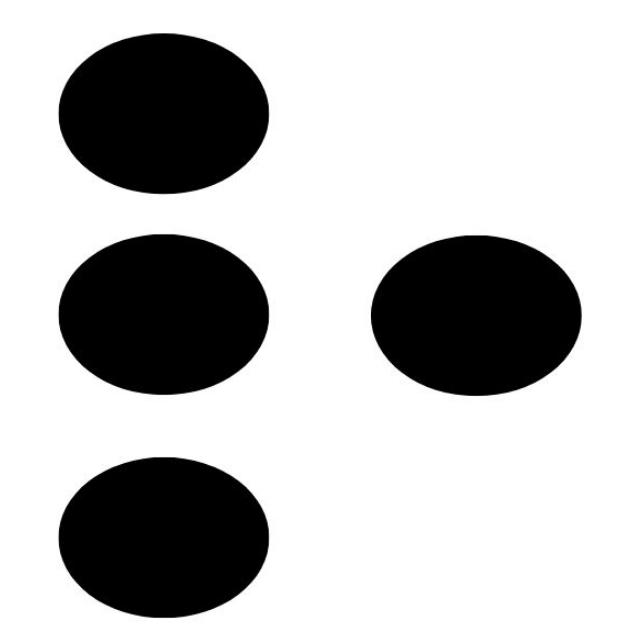letter_r: (59, 30, 586, 612)
